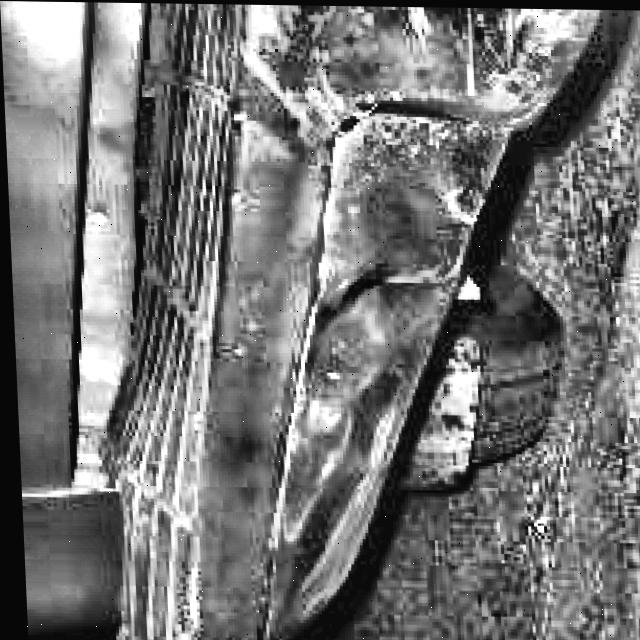bumper_dent: (72, 1, 533, 640)
